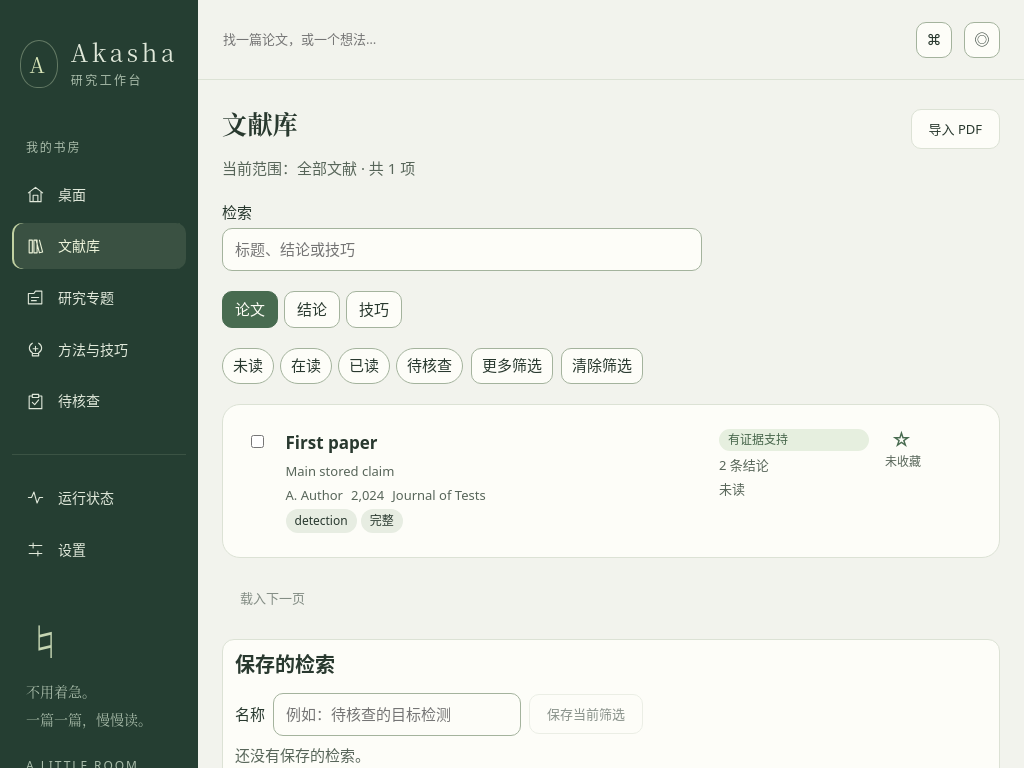
Test case: UX-022 batch actions preview scope and stay idempotent › clears the tray explicitly and hides the batch bar when empty
The width and height of the screenshot is (1024, 768).
What coordinates should you click on to do the following:
click the checkbox named "选择 First paper"
I would click on:
 (258, 441)
Its box is top-left (251, 434), bottom-right (264, 448).
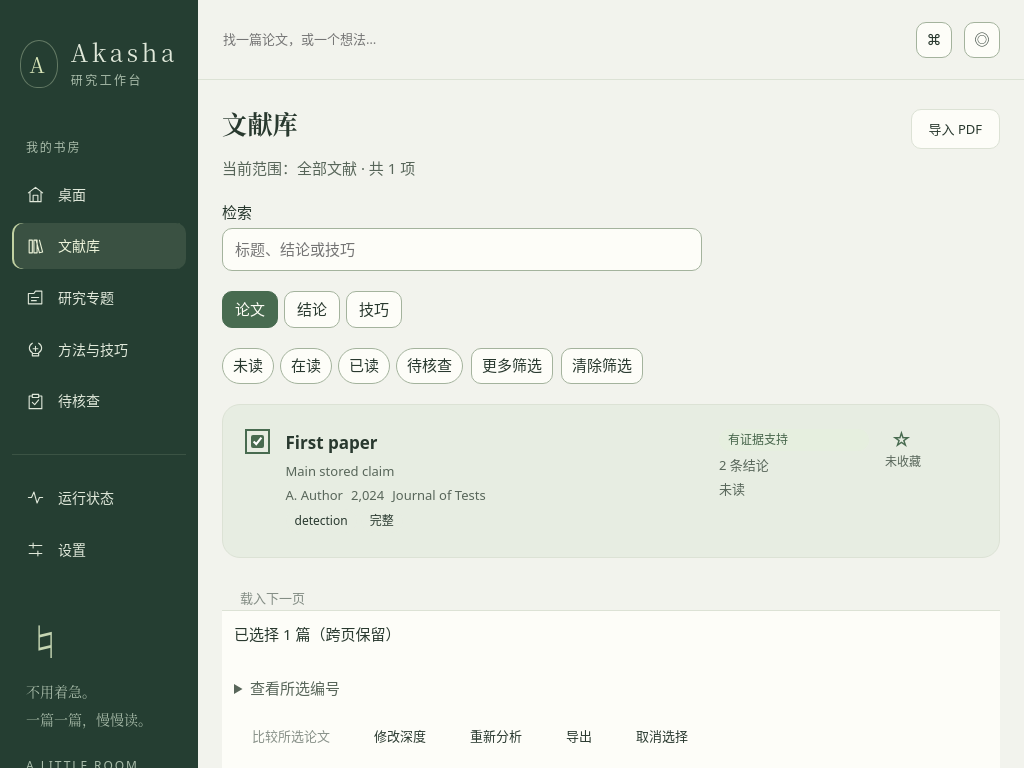
Now the text "已选择 1 篇（跨页保留）" is shown, box top-left (234, 623), bottom-right (400, 643)
What coordinates should you click on to do the following:
click the button "取消选择"
I would click on:
 (662, 736)
Its box is top-left (618, 716), bottom-right (706, 756).
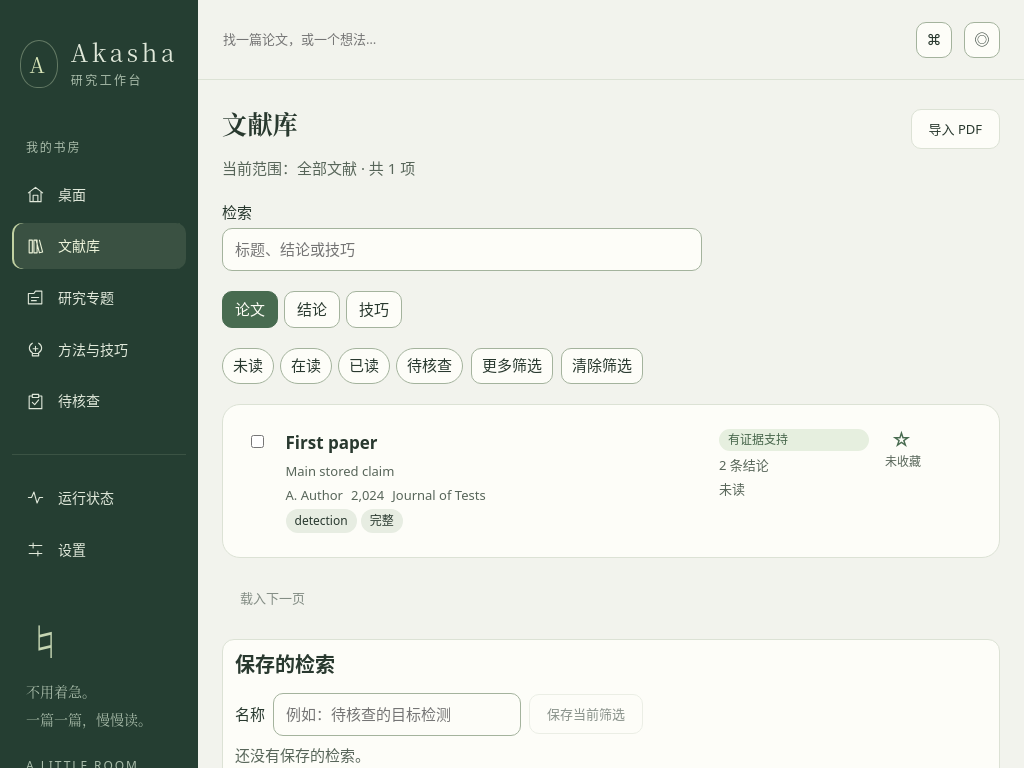
Now the field labelled "批量操作托盘" is gone
